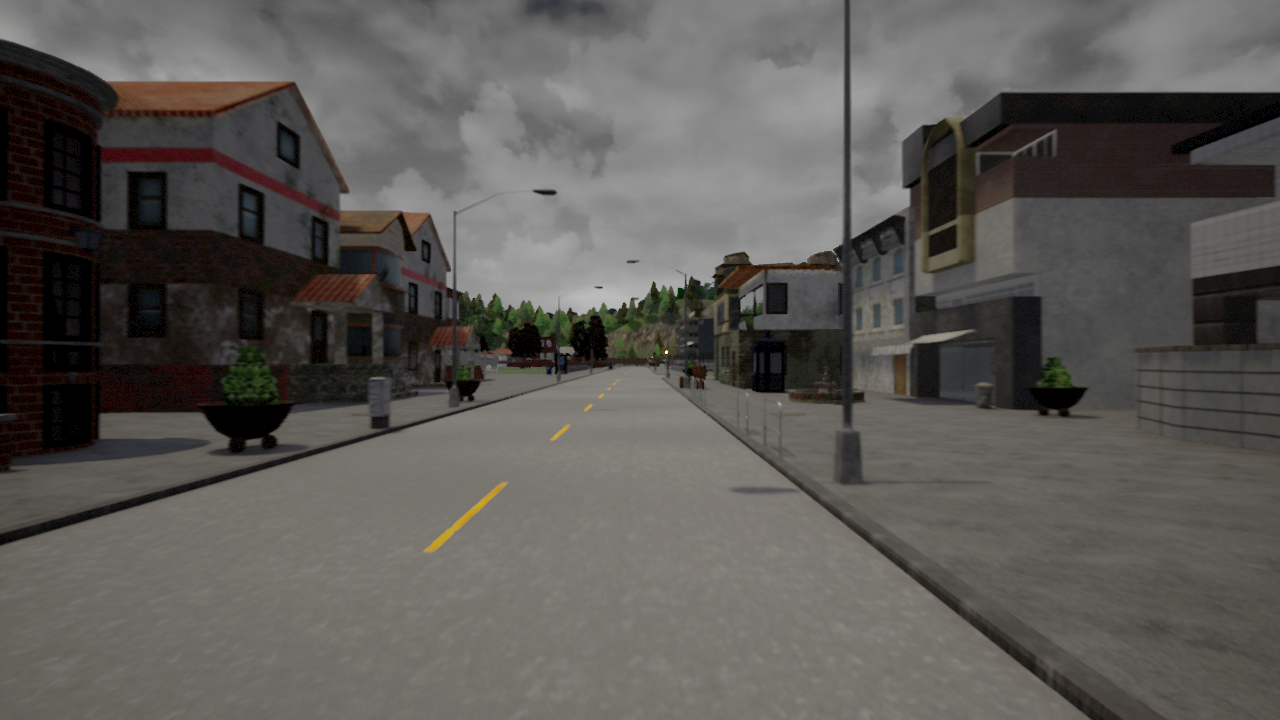yellow: (664, 347, 669, 358)
